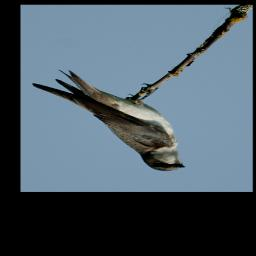Swallow: (32, 69, 186, 172)
